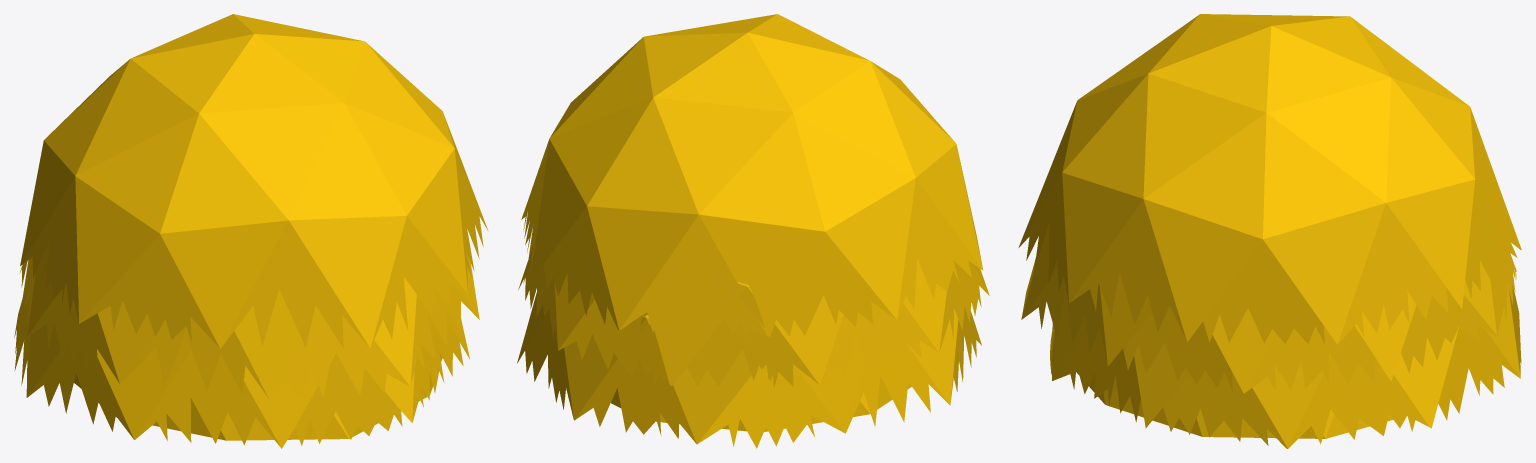
Rendered from haybale02.obj.
3 renders of one model, left to right at view 1: azimuth 30°, elevation 25°; view 2: azimuth 150°, elevation 25°; view 3: azimuth 270°, elevation 25°, orthographic. The views are drawn at different scales.
Parts seen in each view (by area): view 1: haybale02; view 2: haybale02; view 3: haybale02.
Part boxes in pixels (box(x1,y1,x2,y2)): haybale02: box(14, 14, 488, 448); haybale02: box(517, 14, 989, 448); haybale02: box(1018, 14, 1521, 448).
Bounding box in the file's own units: 1.41 × 1.07 × 1.45.
